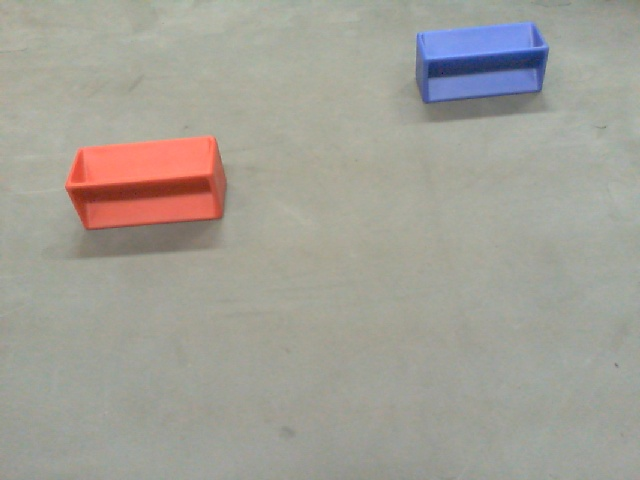BlueSample: (406, 22, 559, 106)
RedSample: (65, 128, 233, 237)
